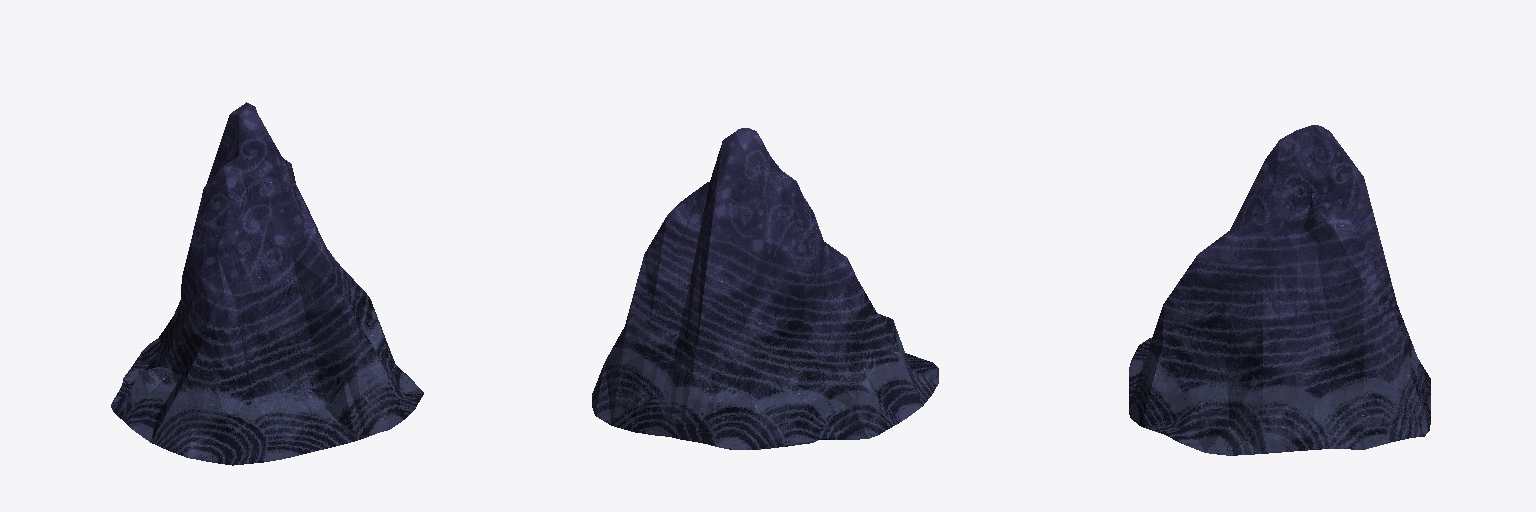
3 views of the same model, side by side, from view 1: azimuth 30°, elevation 25°; view 2: azimuth 150°, elevation 25°; view 3: azimuth 270°, elevation 25° (orthographic).
Visible parts, largest first — view 1: Plane.001_Plane.001; view 2: Plane.001_Plane.001; view 3: Plane.001_Plane.001.
Part boxes in pixels (left/top/right/bottom): Plane.001_Plane.001: left=111, top=102, right=423, bottom=465; Plane.001_Plane.001: left=592, top=128, right=938, bottom=449; Plane.001_Plane.001: left=1129, top=125, right=1430, bottom=455.
Size of the model in its own units: 2 by 2 by 2.
1 materials, 1 textured.